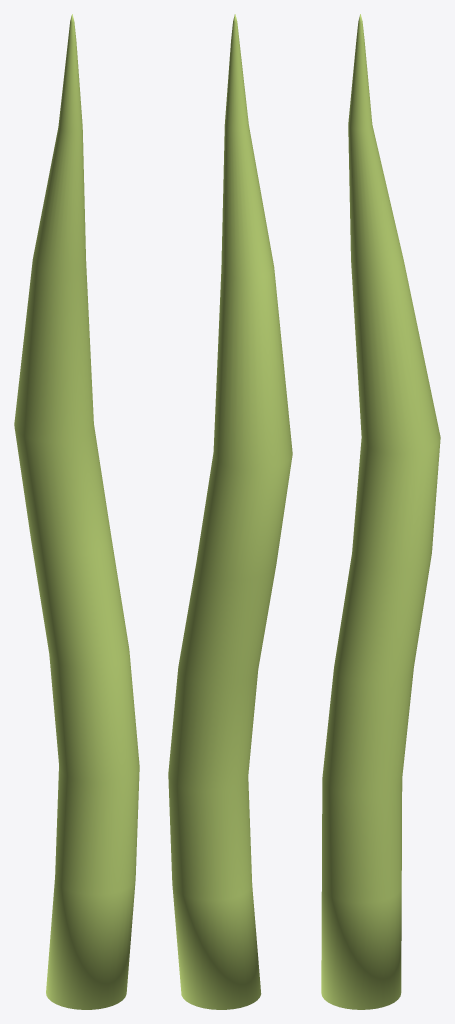
File: racine3b.fbx
The picture shows the model from 3 angles, left to right: view 1: azimuth 30°, elevation 25°; view 2: azimuth 210°, elevation 25°; view 3: azimuth 270°, elevation 25°; orthographic projection.
Visible parts, largest first — view 1: BRANCHE_V3; view 2: BRANCHE_V3; view 3: BRANCHE_V3.
Part boxes in pixels (left/top/right/bottom): BRANCHE_V3: left=14, top=14, right=139, bottom=1009; BRANCHE_V3: left=168, top=14, right=292, bottom=1009; BRANCHE_V3: left=321, top=14, right=440, bottom=1009.
Bounding box in the file's own units: 0.3039 × 3 × 0.3338.
